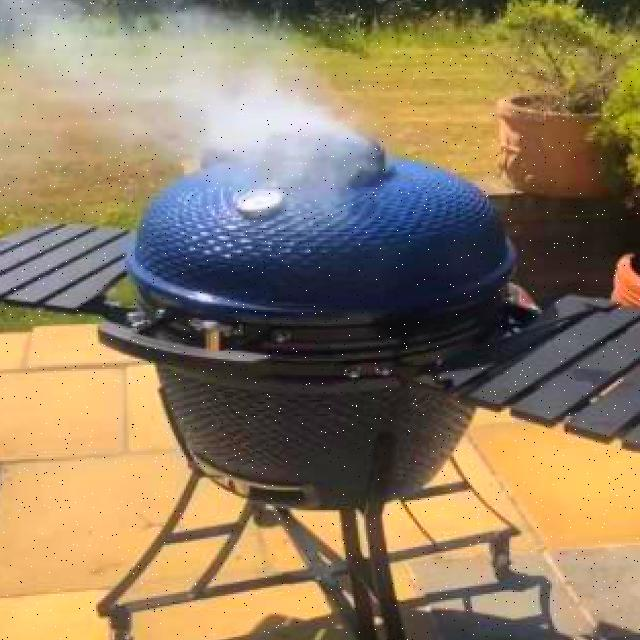smoke: (39, 0, 379, 186)
